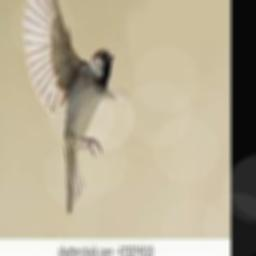Sparrow: (23, 0, 123, 212)
